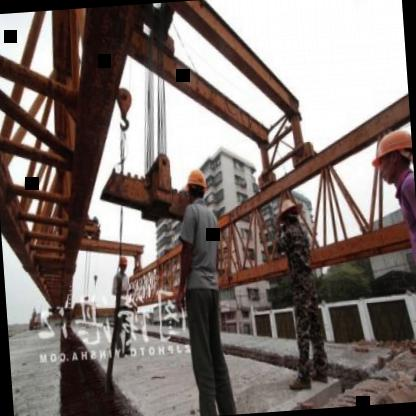helmet: (369, 124, 415, 190), (185, 164, 208, 206), (116, 254, 129, 274)
